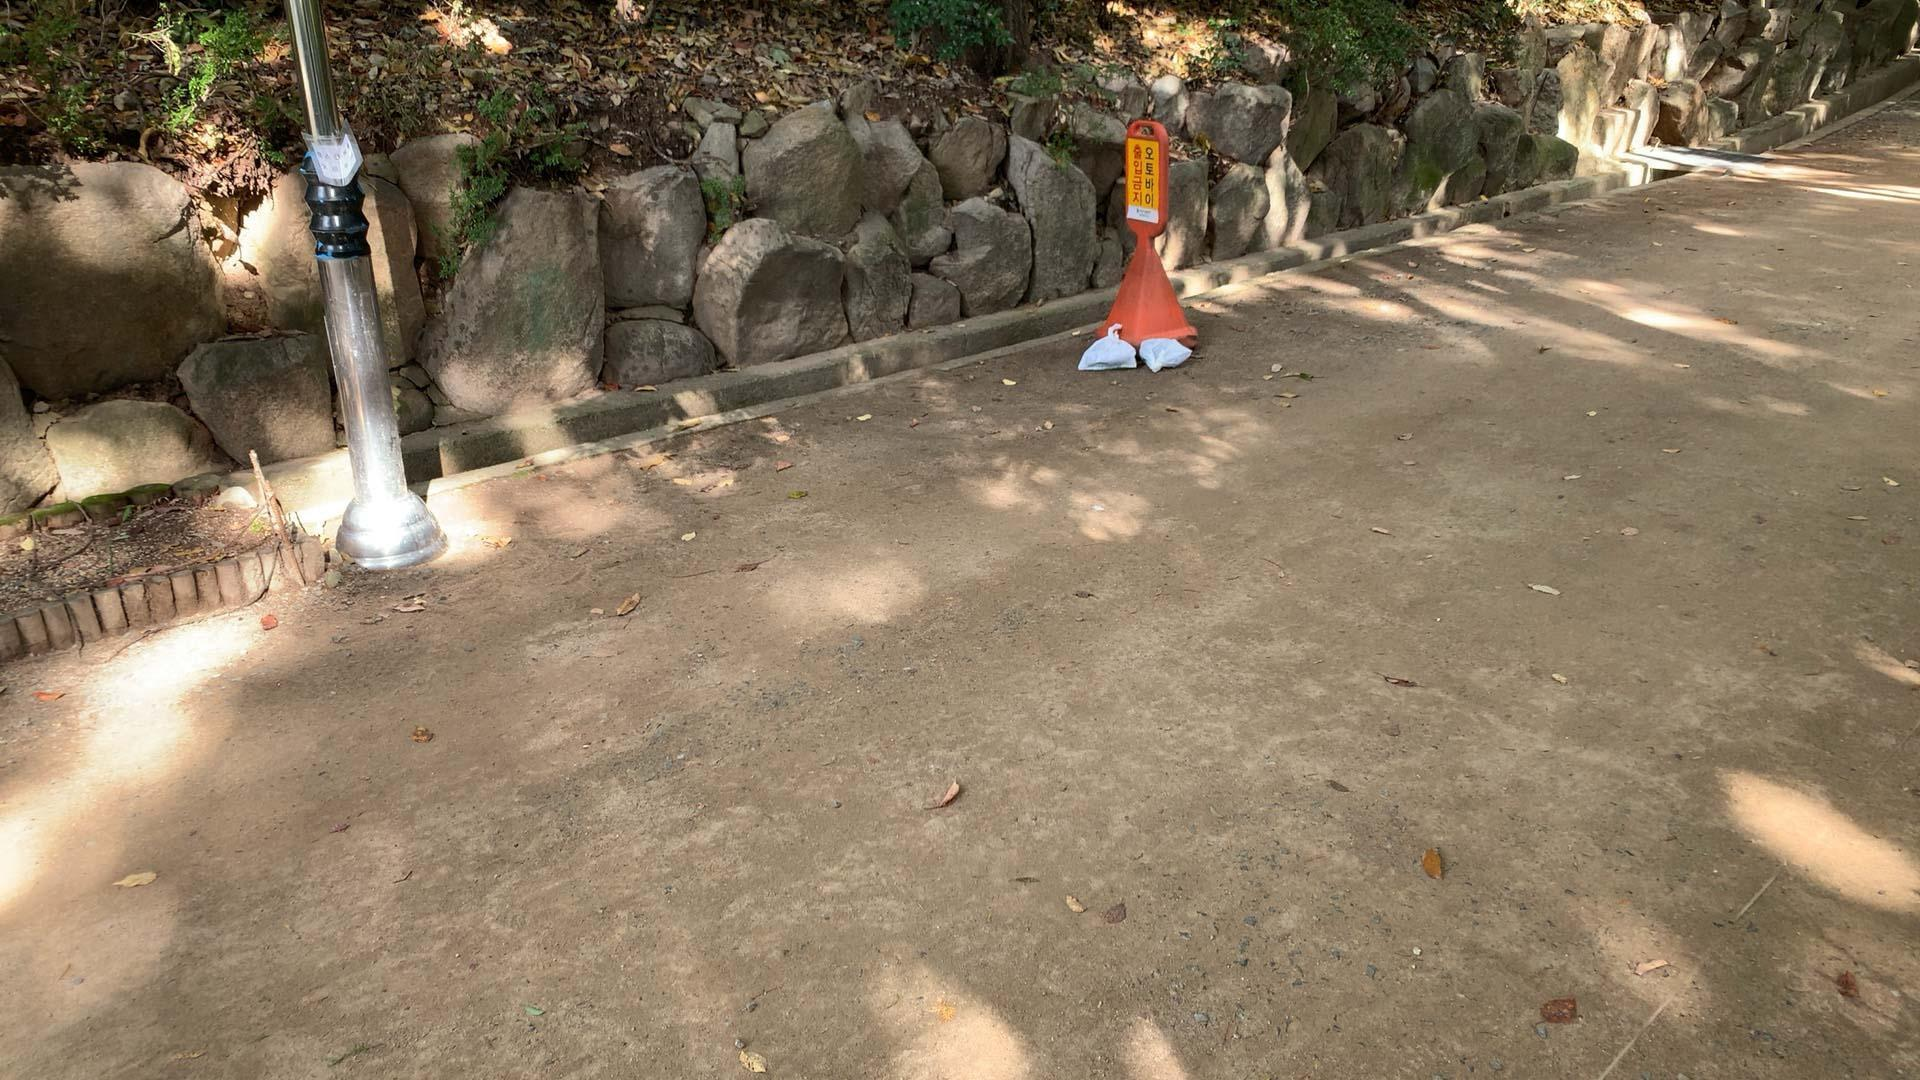white_bag: (1065, 320, 1142, 372), (1131, 336, 1195, 372)
